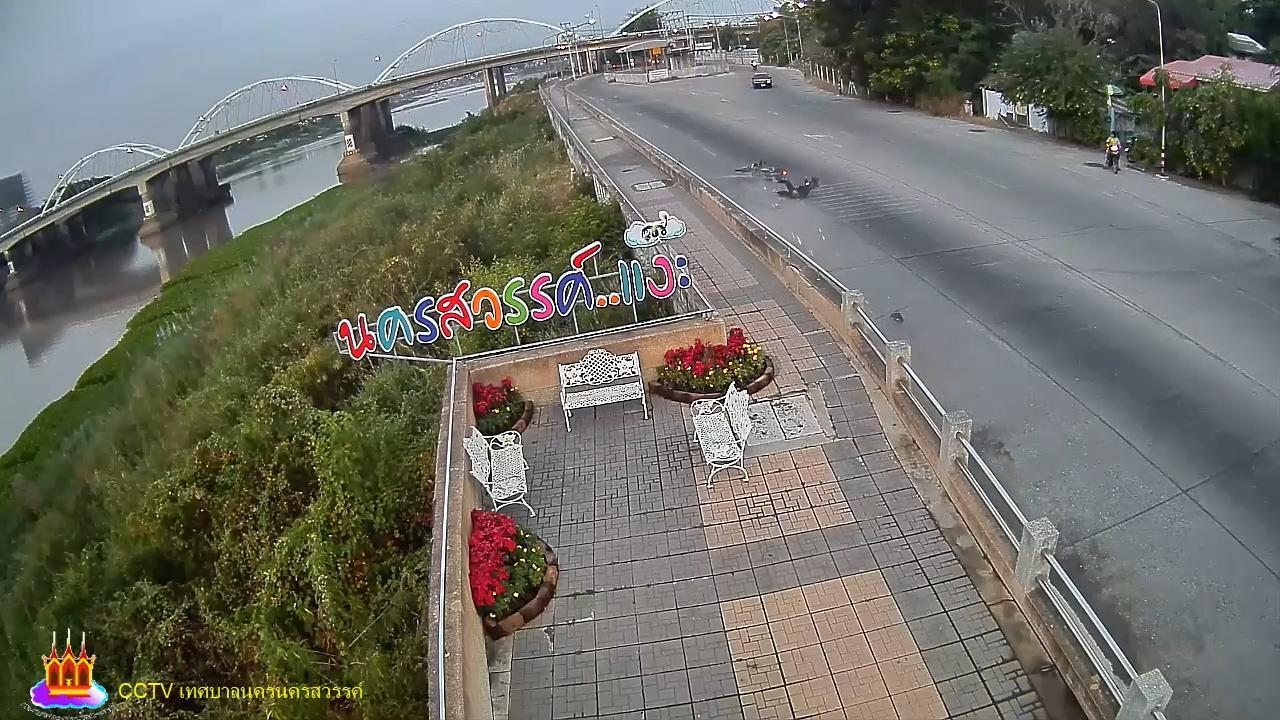accident: (774, 176, 820, 201)
